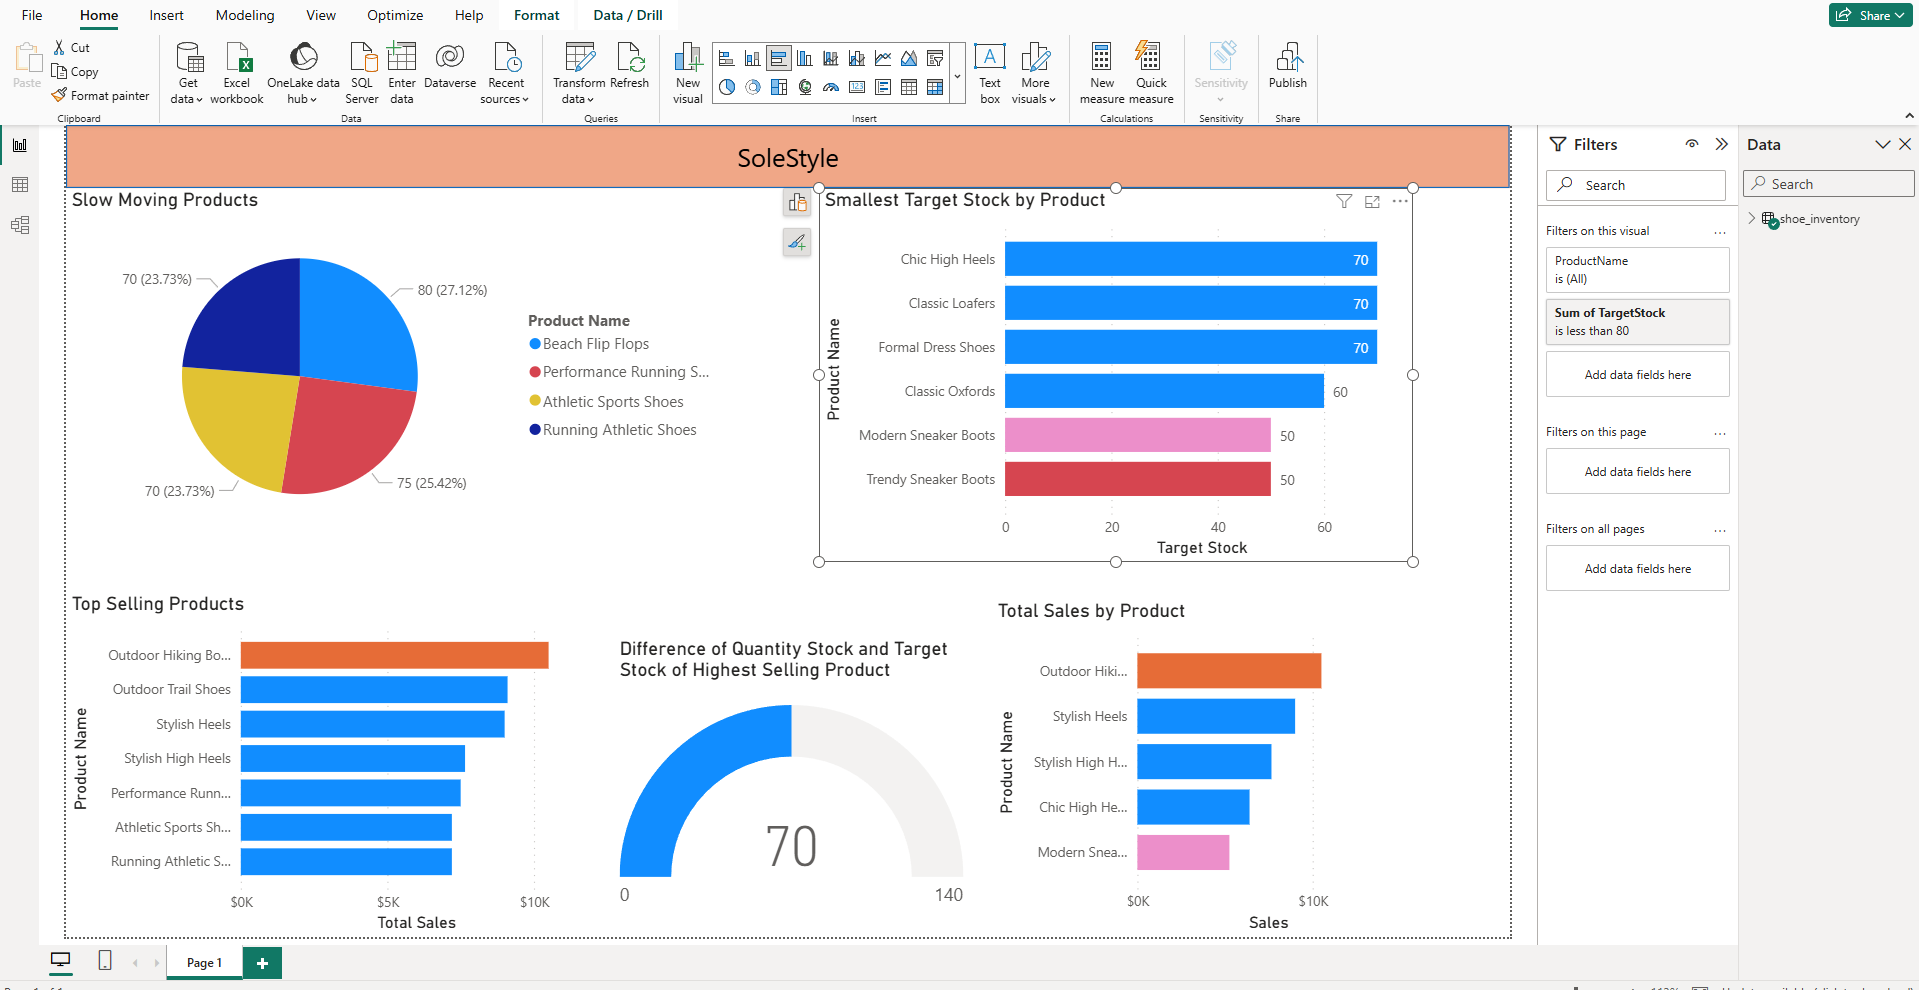

The dashboard page shown, as its layout file describes it:
{"tool":"powerbi","page":{"name":"Page 1","canvas":[1280,720],"ordinal":0},"visuals":[{"type":"pieChart","title":"Slow Moving Products","fields":{"Category":["shoe_inventory.ProductName"],"Y":["Sum(shoe_inventory.QtyStock)"]},"box":[0,55.9,588.8,314.8],"z":0},{"type":"gauge","title":"Difference of Quantity Stock and Target Stock of Highest Selling Product","fields":{"Y":["Sum(shoe_inventory.Difference of QtyStock and TargetStock)"]},"box":[485.9,454,314.8,266],"z":1000},{"type":"clusteredBarChart","title":"Smallest Target Stock by Product","fields":{"Category":["shoe_inventory.ProductName"],"Y":["Sum(shoe_inventory.TargetStock)"]},"box":[667.7,55.9,526.7,331.6],"z":3000},{"type":"clusteredBarChart","title":"Top Selling Products","fields":{"Category":["shoe_inventory.ProductName"],"Y":["Sum(shoe_inventory.Sales)"]},"box":[0,414.1,485.9,305.9],"z":3001},{"type":"clusteredBarChart","title":"Total Sales by Product ","fields":{"Category":["shoe_inventory.ProductName"],"Y":["Sum(shoe_inventory.Sales)"]},"box":[821.1,420.3,381.3,299.7],"z":3002},{"type":"shape","box":[0,0,1280.4,55.9],"z":3003}]}

Visuals, with their boxes on the page's 1280x720 design canvas (x1, y1, x2, y2). These are canvas units, not pixel positions in the 1919x990 screenshot, which may show the page scaled, cropped or inside an application window:
"Slow Moving Products" pieChart: rect(0, 56, 589, 371)
"Difference of Quantity Stock and Target Stock of Highest Selling Product" gauge: rect(486, 454, 801, 720)
"Smallest Target Stock by Product" clusteredBarChart: rect(668, 56, 1194, 388)
"Top Selling Products" clusteredBarChart: rect(0, 414, 486, 720)
"Total Sales by Product " clusteredBarChart: rect(821, 420, 1202, 720)
shape: rect(0, 0, 1280, 56)
